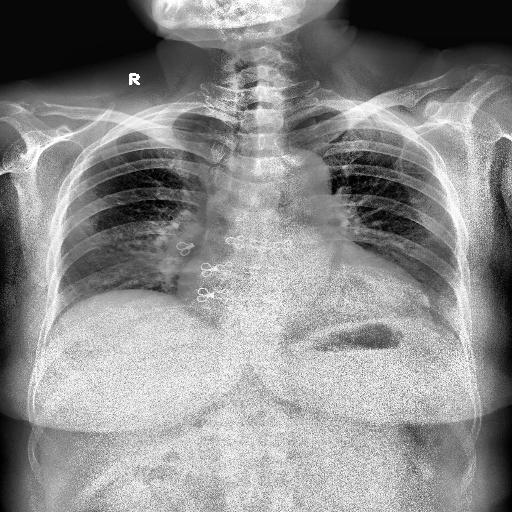0- Aortic enlargement: (279, 146, 335, 212), (282, 148, 334, 204)
3- Cardiomegaly: (176, 246, 426, 332), (176, 240, 430, 320), (177, 265, 430, 327)
